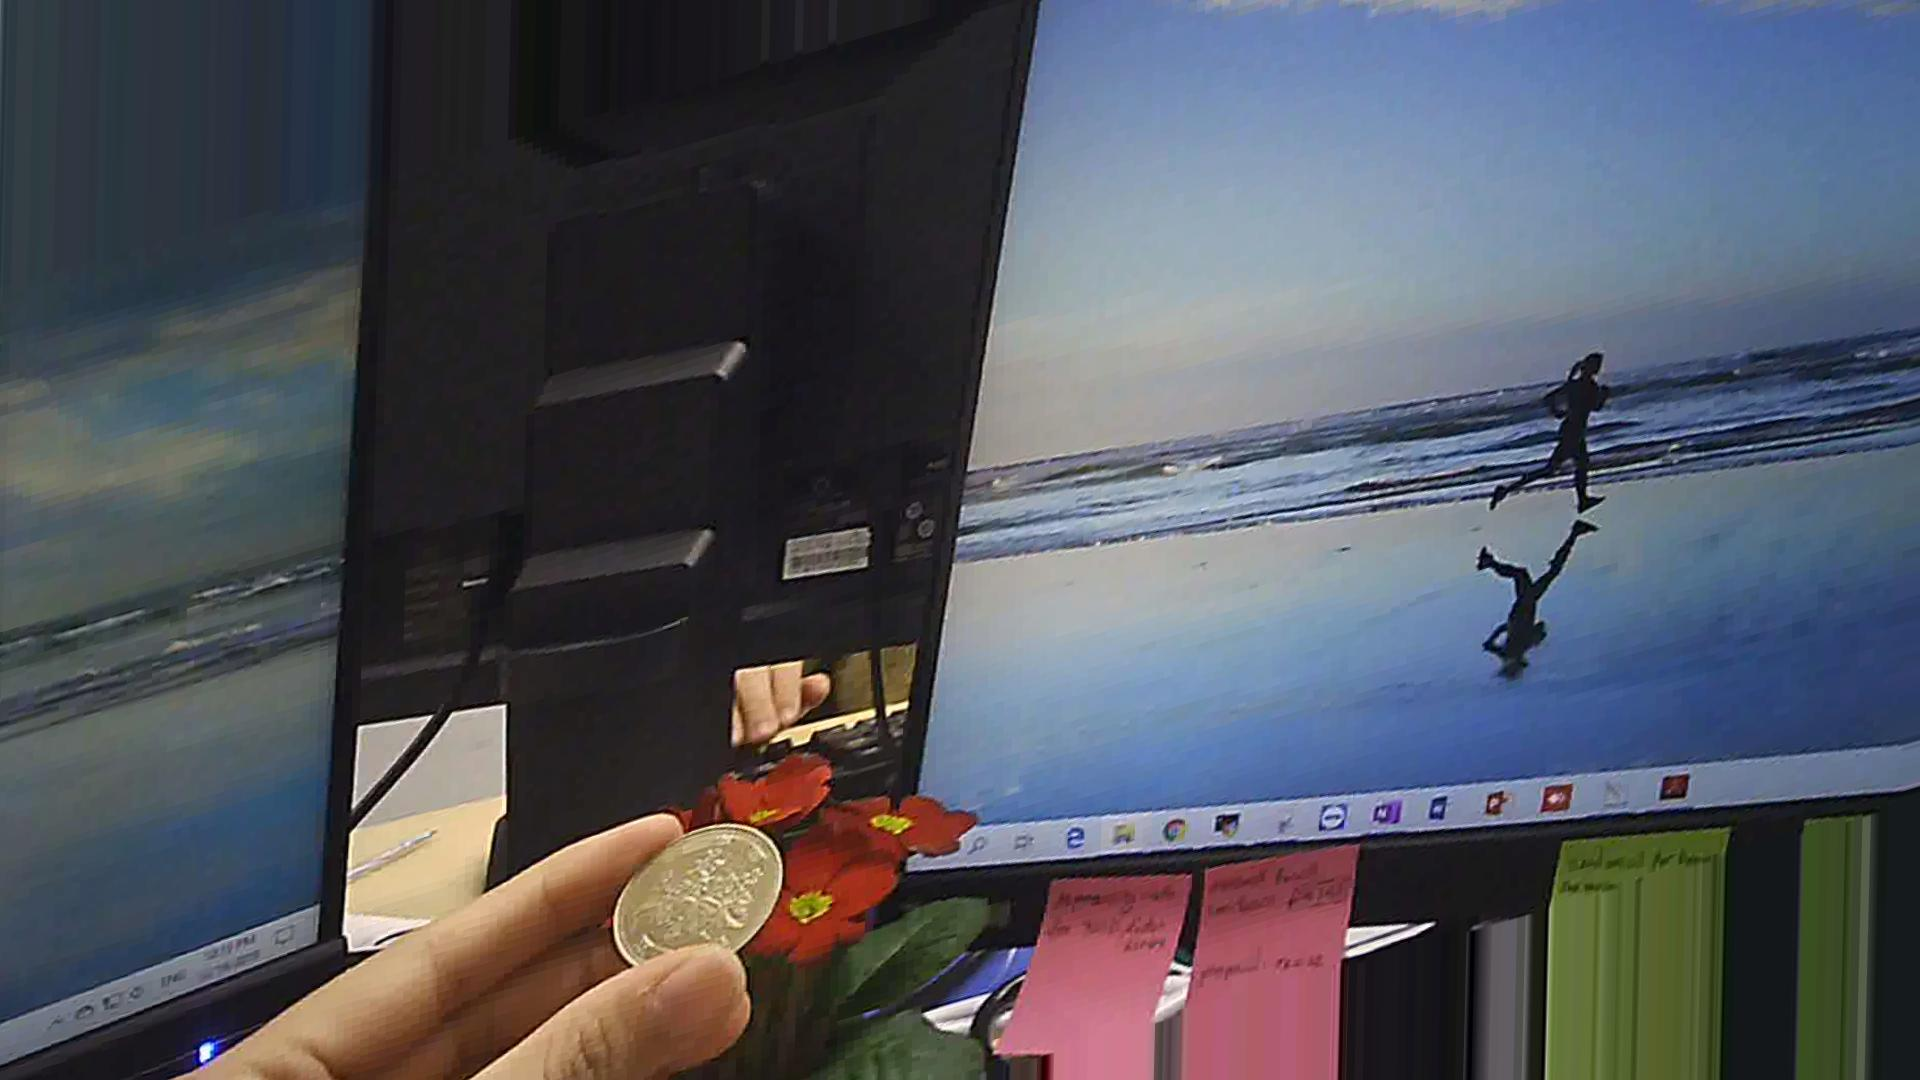500 Yen: (607, 808, 791, 985)
